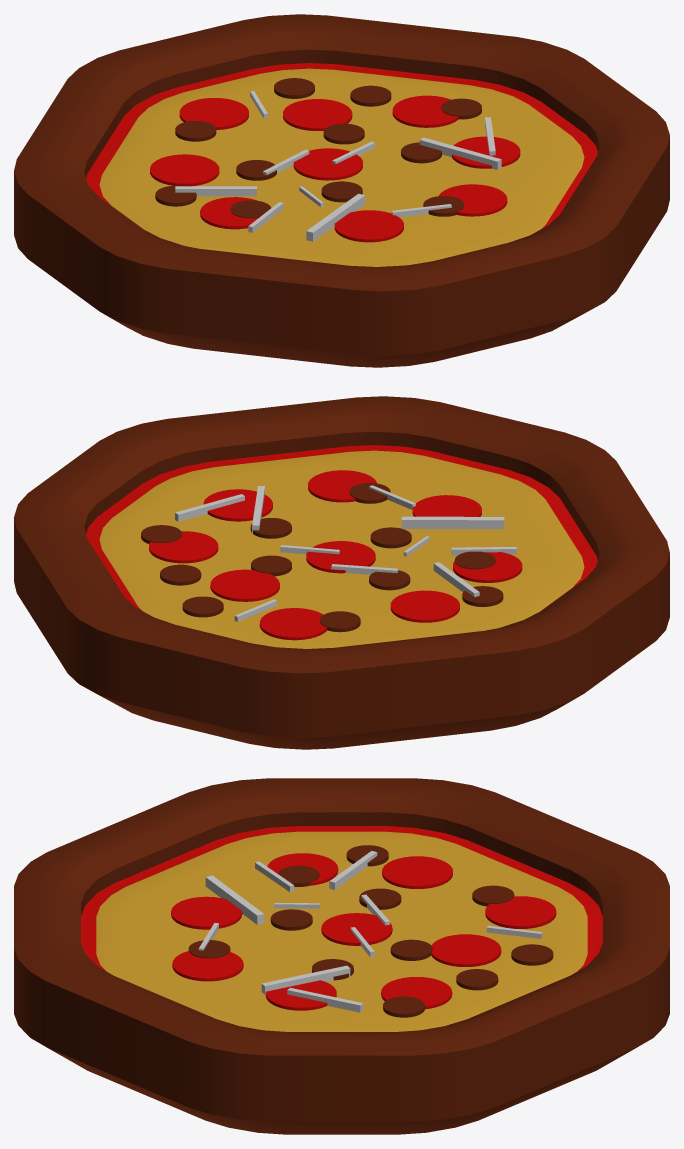
Rendered from Fancy Pepperoni Pizza.obj.
3 renders of one model, top to bottom at view 1: azimuth 30°, elevation 25°; view 2: azimuth 150°, elevation 25°; view 3: azimuth 270°, elevation 25°, orthographic. The views are drawn at different scales.
Visible parts, largest first — view 1: Fancy_Pepperoni_Pizza_Cube.002; view 2: Fancy_Pepperoni_Pizza_Cube.002; view 3: Fancy_Pepperoni_Pizza_Cube.002.
Part boxes in pixels (box(x1,y1,x2,y2)): Fancy_Pepperoni_Pizza_Cube.002: box(14, 14, 669, 367); Fancy_Pepperoni_Pizza_Cube.002: box(14, 396, 669, 749); Fancy_Pepperoni_Pizza_Cube.002: box(14, 778, 669, 1134).
Bounding box in the file's own units: 2 × 0.4132 × 2.
